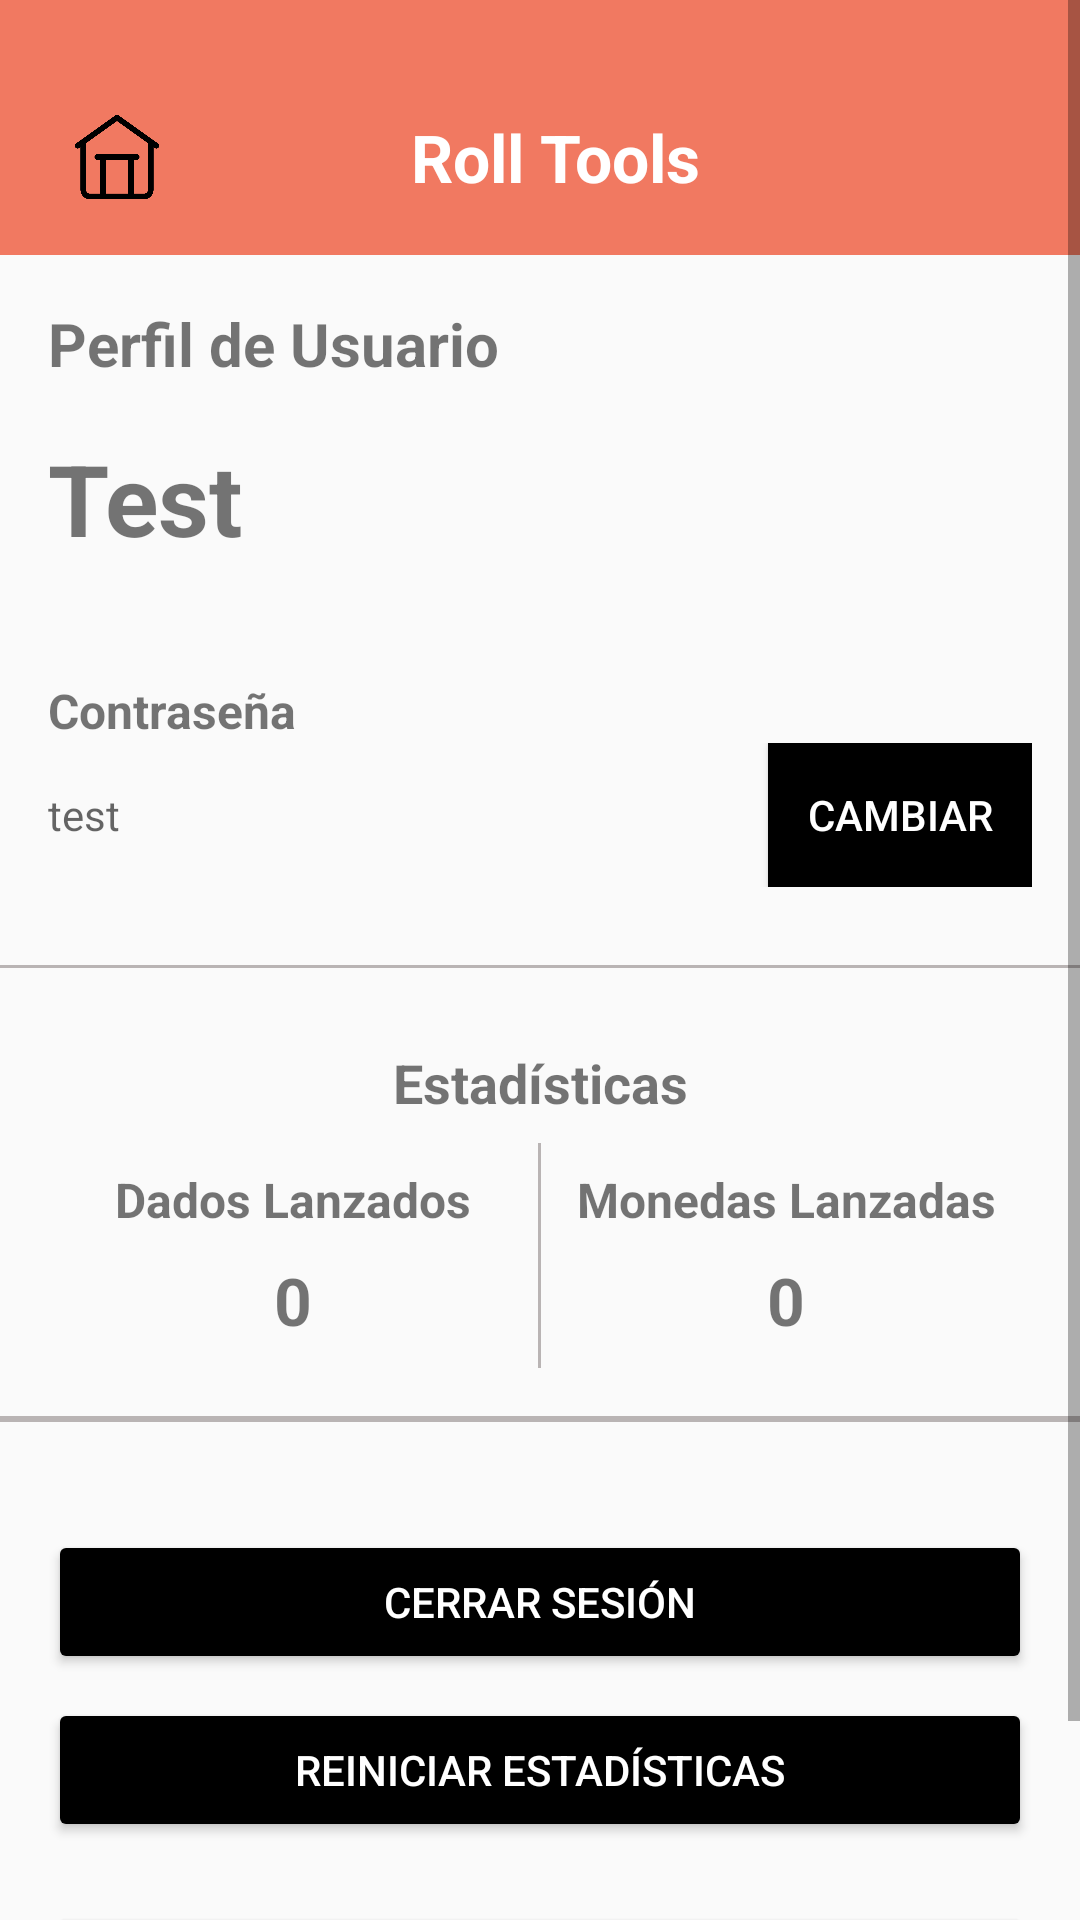

Screen size 1080 × 1920. Icon name, then its center in pixels as (x,y):
casa: (117,157)
